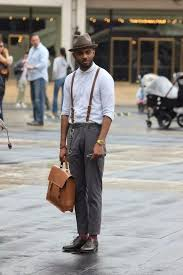F_dress pants: (65, 123, 106, 236)
F_shirt: (61, 66, 117, 127)
